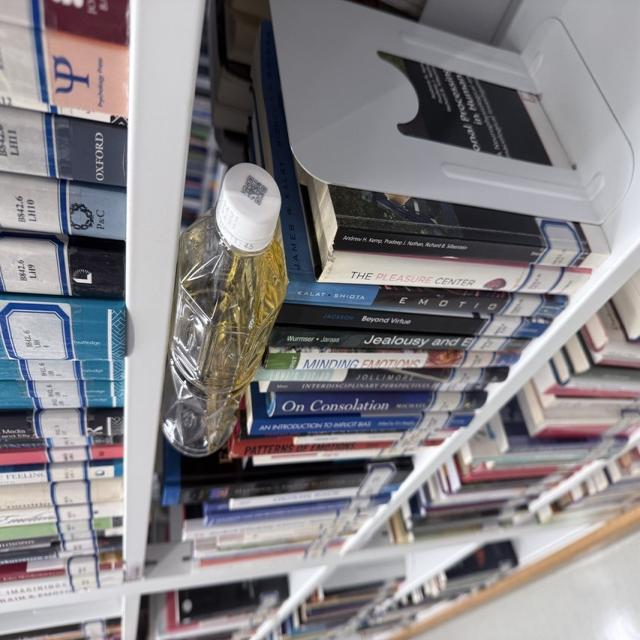low: (163, 163, 287, 456)
